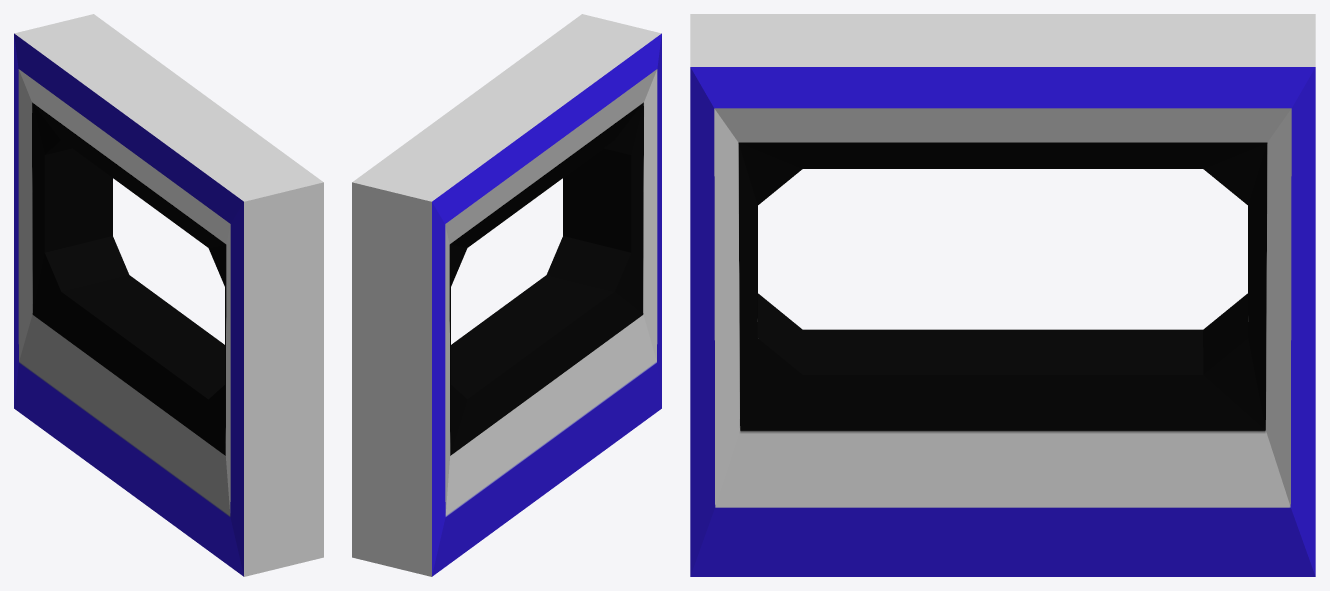
Rendered from WindowWall.fbx.
3 views of the same model, side by side, from view 1: azimuth 30°, elevation 25°; view 2: azimuth 150°, elevation 25°; view 3: azimuth 270°, elevation 25° (orthographic). The views are drawn at different scales.
Visible parts, largest first — view 1: WindowWall; view 2: WindowWall; view 3: WindowWall.
Boxes of the visible parts, x1,y1,x2,y2 form: WindowWall: [14, 14, 323, 576]; WindowWall: [352, 14, 661, 576]; WindowWall: [690, 14, 1315, 576].
Size of the model in its own units: 225 by 900 by 1000.
